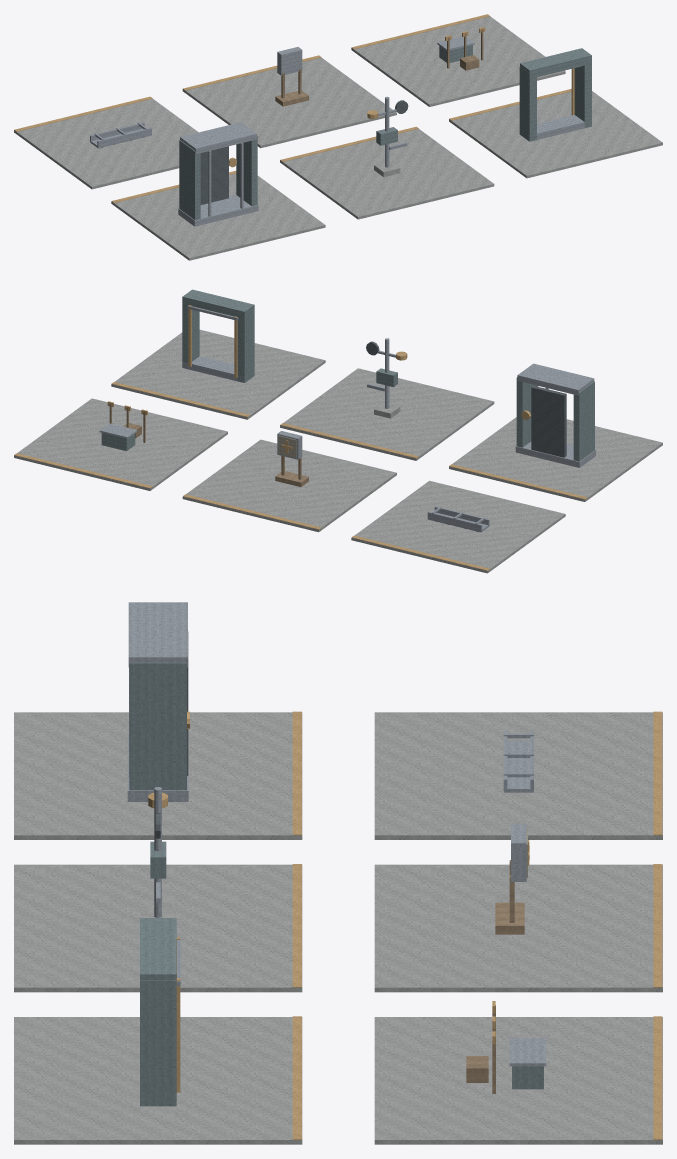
Rendered from level_blockout_kit_wld_08_p02.glb.
3 renders of one model, top to bottom at view 1: azimuth 30°, elevation 25°; view 2: azimuth 150°, elevation 25°; view 3: azimuth 270°, elevation 25°, orthographic. The views are drawn at different scales.
Parts seen in each view (by area): view 1: level_blockout_kit_wld_08_p02; view 2: level_blockout_kit_wld_08_p02; view 3: level_blockout_kit_wld_08_p02.
Part boxes in pixels (bbox=[...]): level_blockout_kit_wld_08_p02: bbox=[14, 14, 662, 260]; level_blockout_kit_wld_08_p02: bbox=[14, 289, 662, 573]; level_blockout_kit_wld_08_p02: bbox=[14, 602, 662, 1144].
Bounding box in the file's own units: 19.65 × 3.18 × 12.6.
7 materials, 7 textured.
